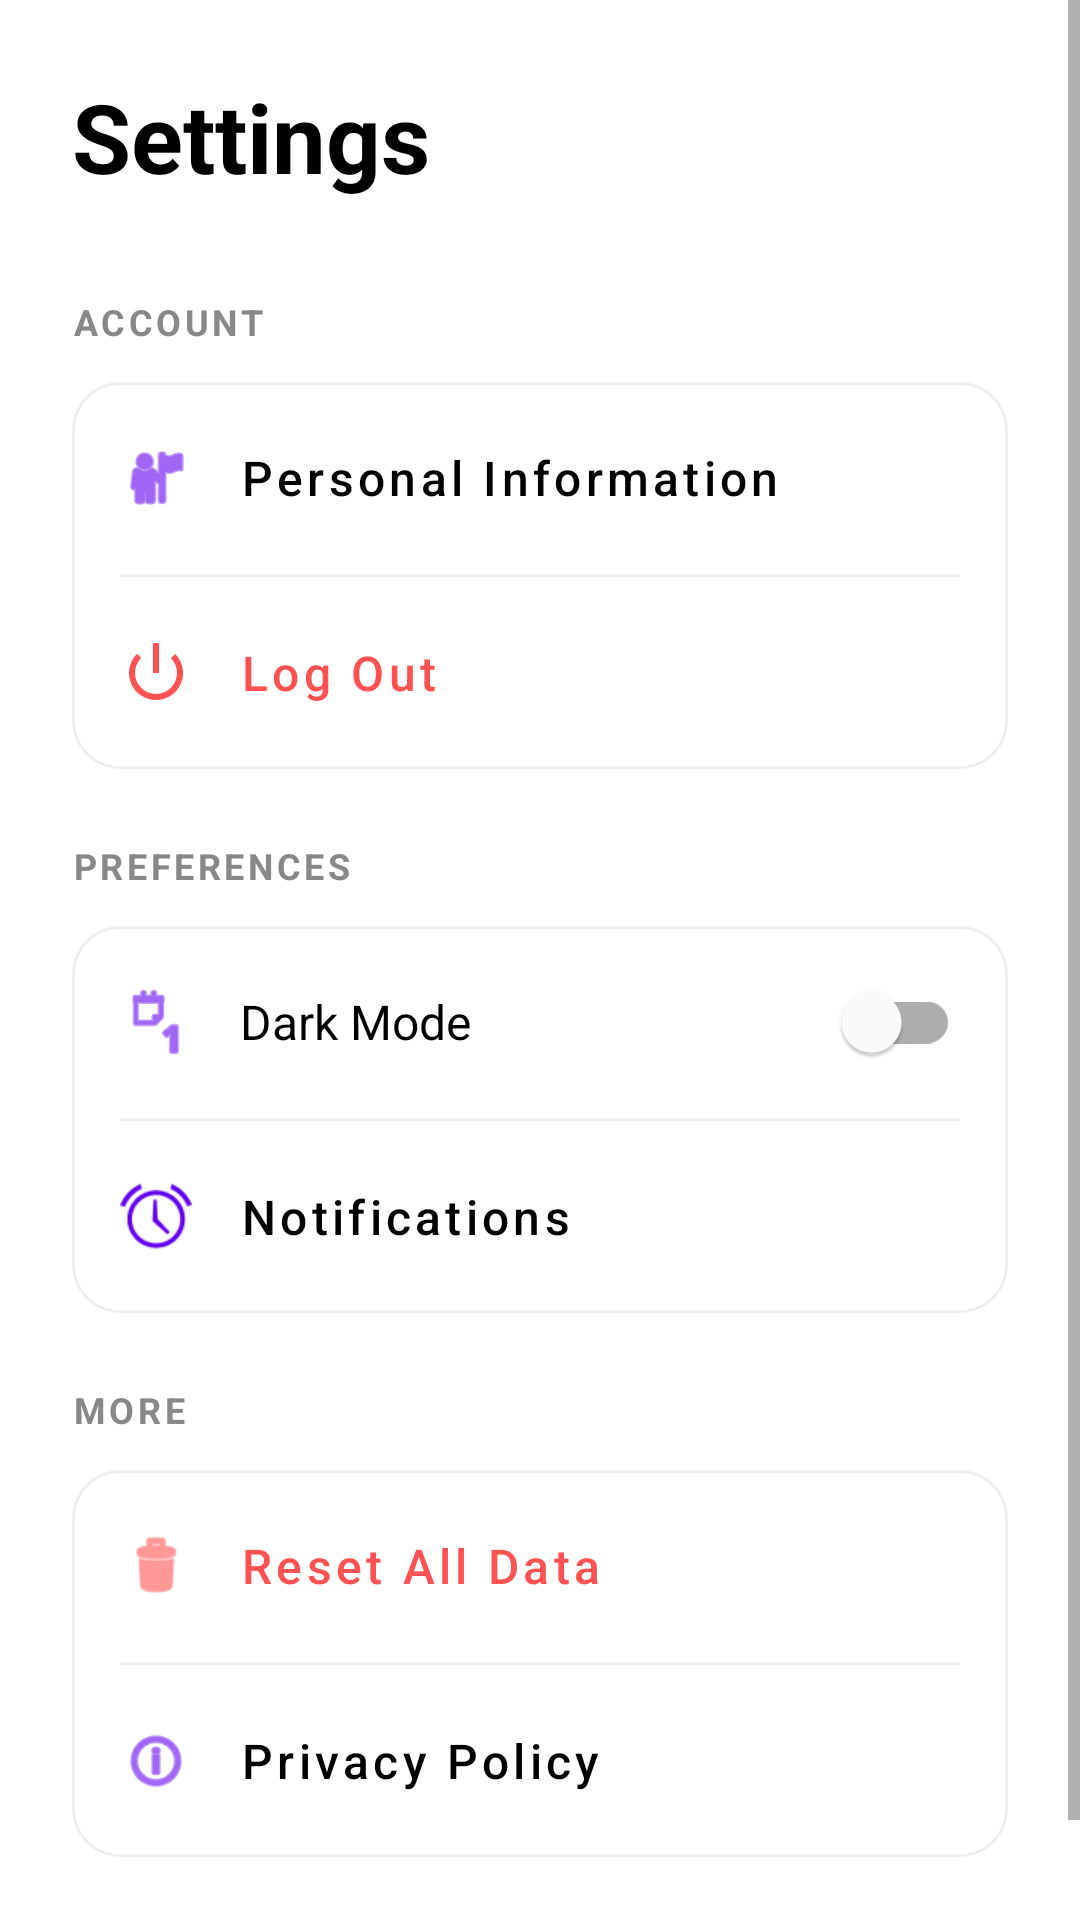

Screen size 1080 x 1920. Icon name, then its box in pixels as Rect(x1, y1, x2, y2):
day: Rect(132, 990, 179, 1054)
